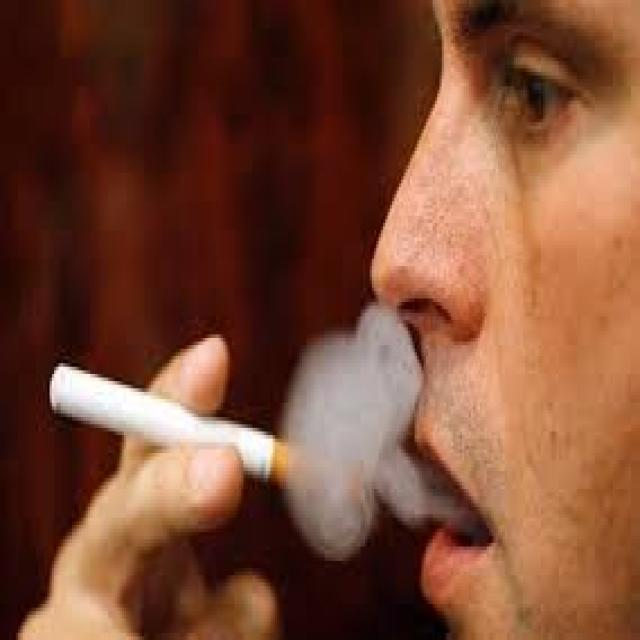rokok: (45, 358, 371, 522)
